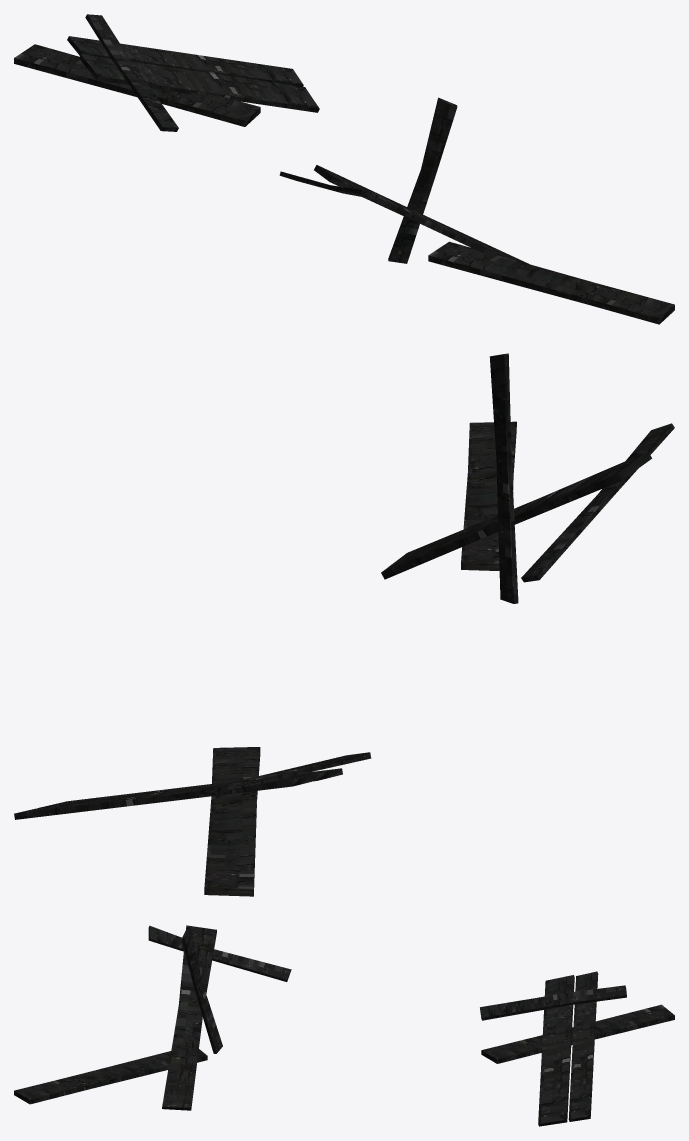
File: 1_BURNT_01_11-transformed.glb
The picture shows the model from 3 angles, top to bottom: view 1: azimuth 30°, elevation 25°; view 2: azimuth 150°, elevation 25°; view 3: azimuth 270°, elevation 25°; orthographic projection. The views are drawn at different scales.
Parts seen in each view (by area): view 1: default; view 2: default; view 3: default.
Boxes of the visible parts, x1,y1,x2,y2 form: default: (14,14,674,324); default: (14,353,674,896); default: (14,925,674,1126).
Bounding box in the file's own units: 1.95 × 1.57 × 5.9.
1 material, 1 textured.
